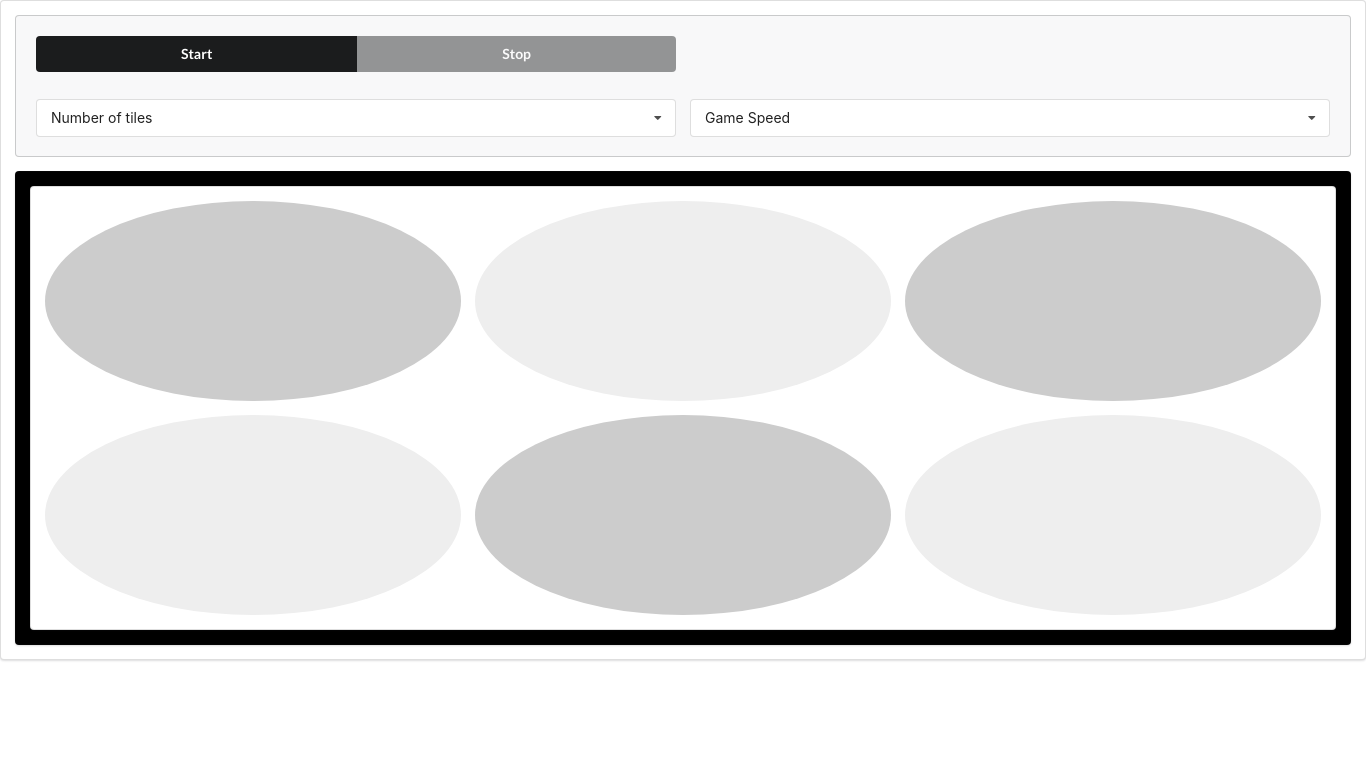
game should stop
Click the button with test id "start-button" at (197, 54), box [36, 36, 357, 72]
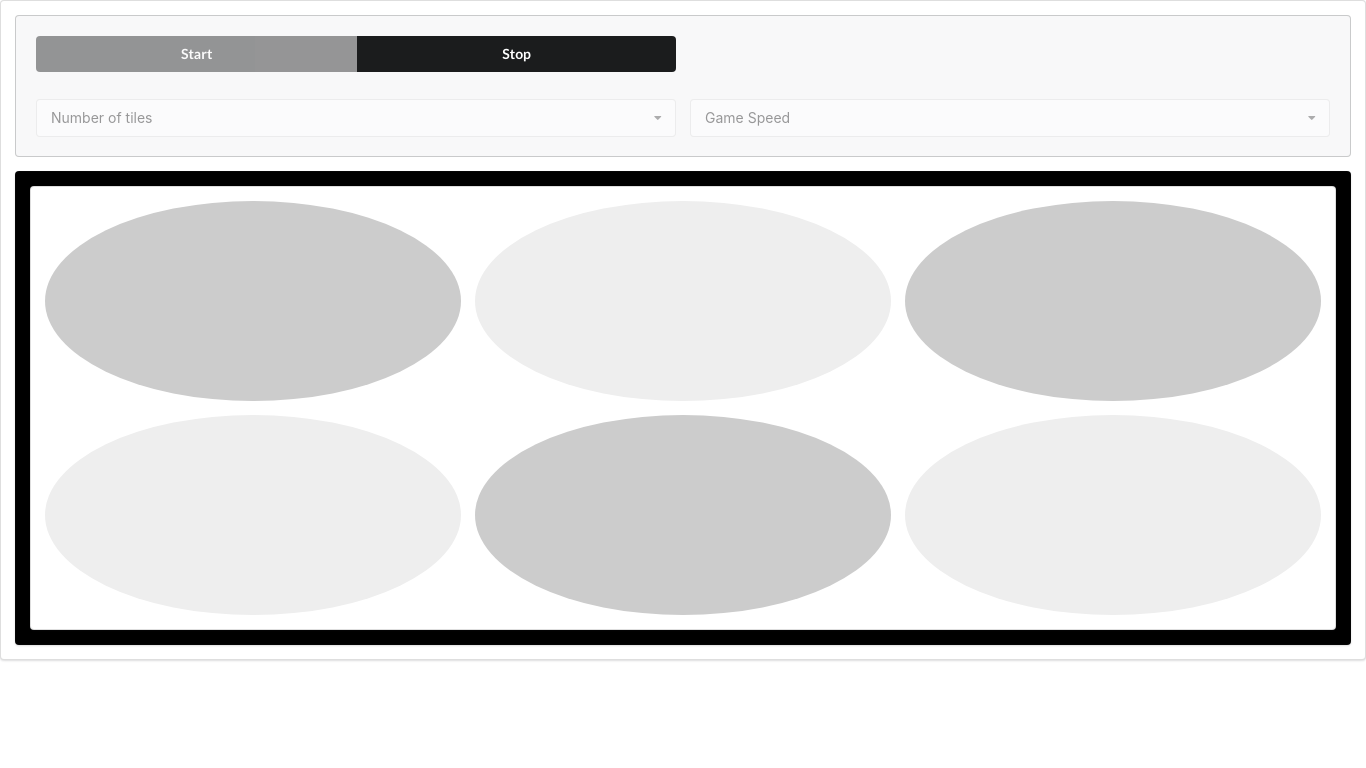
Click the button with test id "stop-button" at (517, 54), box [357, 36, 676, 72]
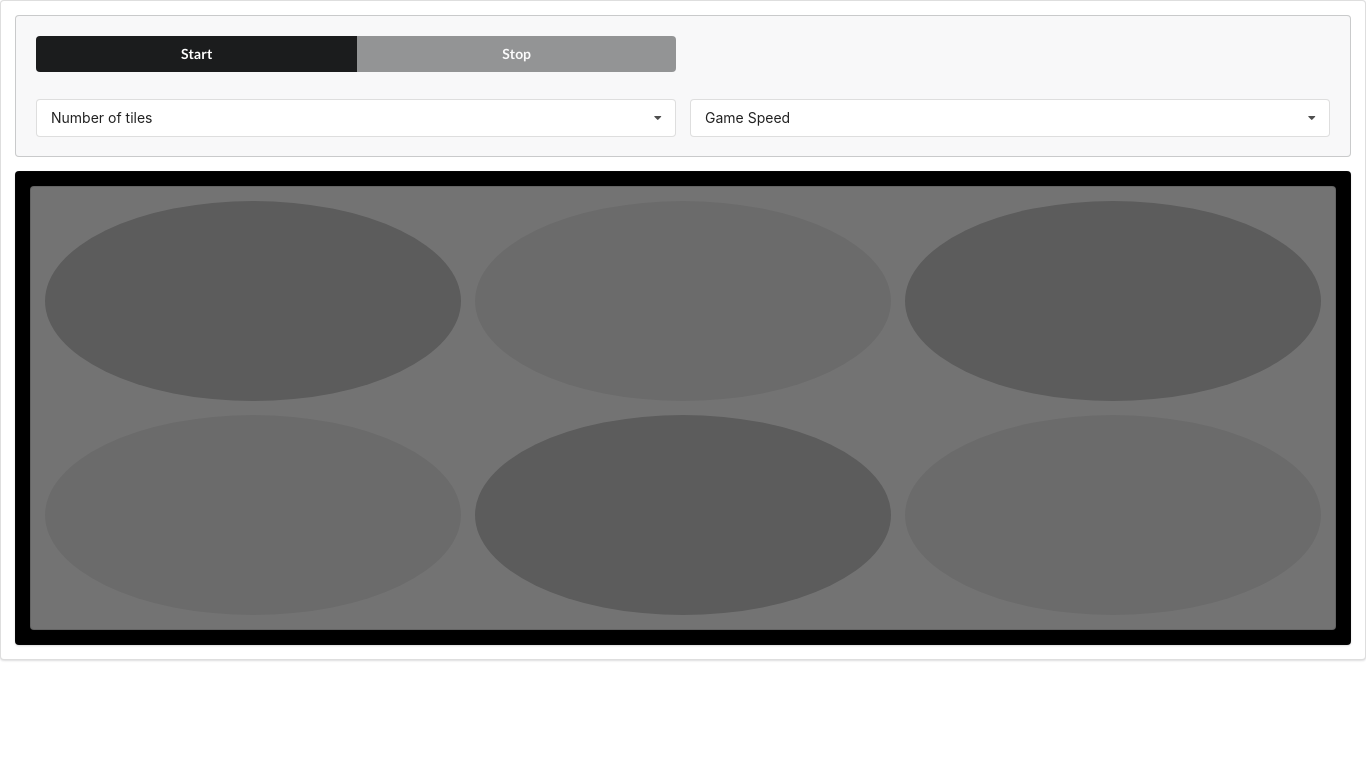
Result: the button with test id "stop-button" is disabled at [357, 36, 676, 72]
